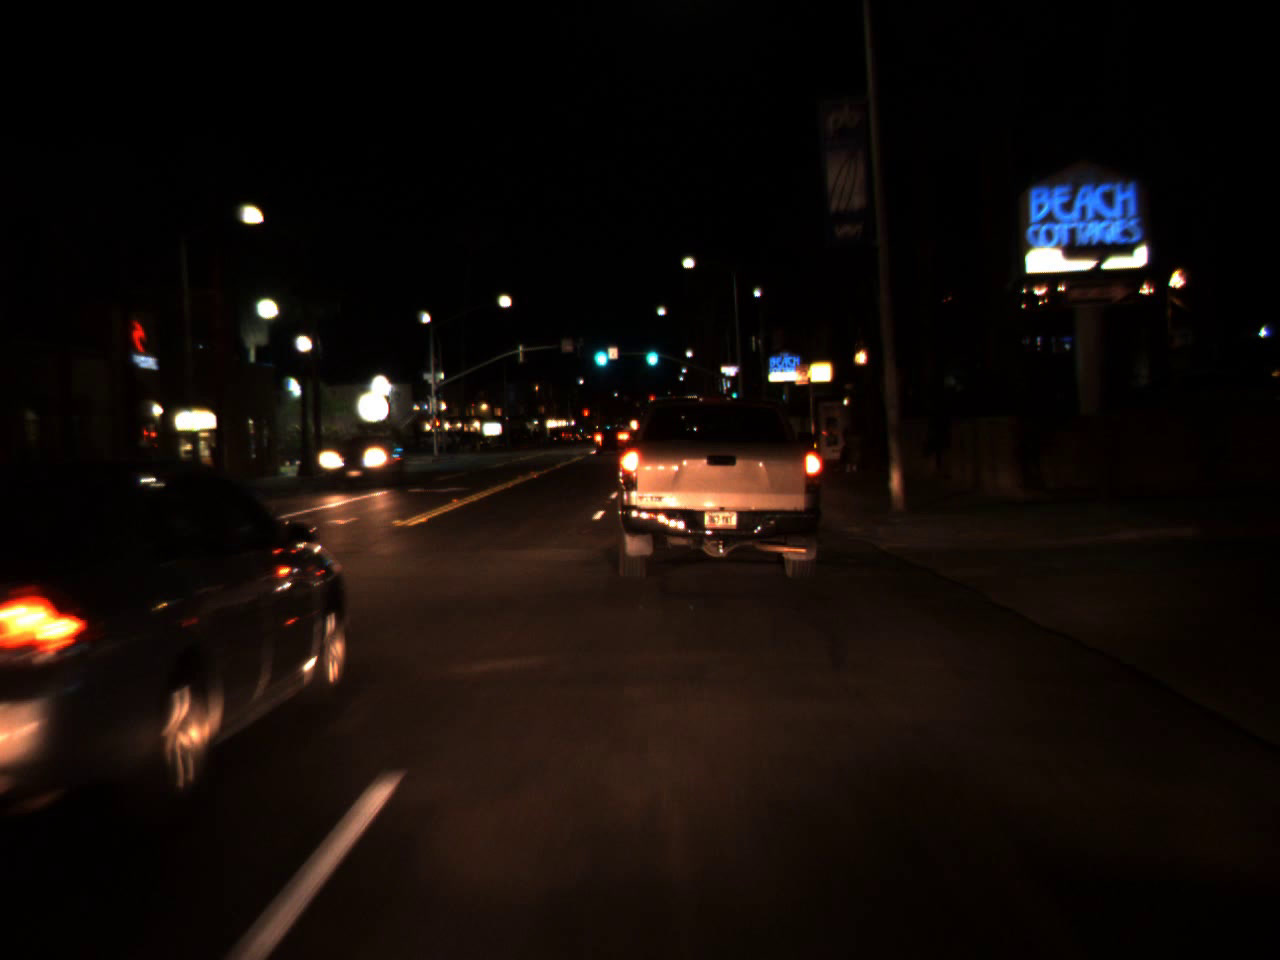go: (589, 332, 610, 371), (643, 335, 659, 371)
